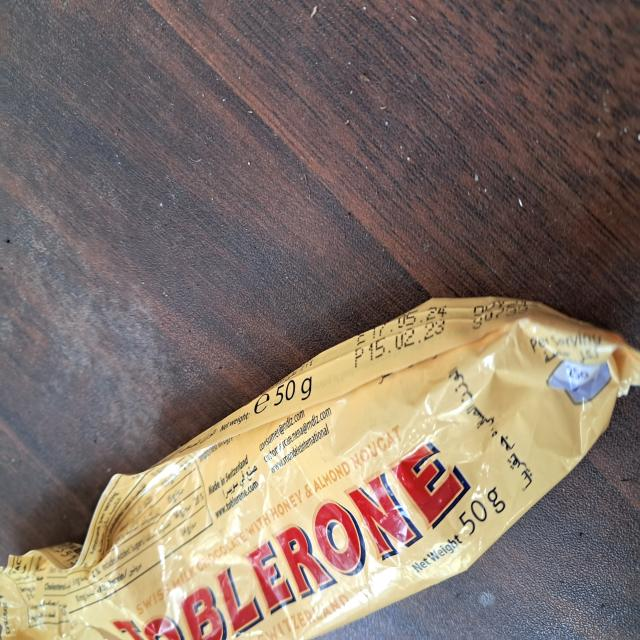Anorganik: (1, 257, 640, 639)
